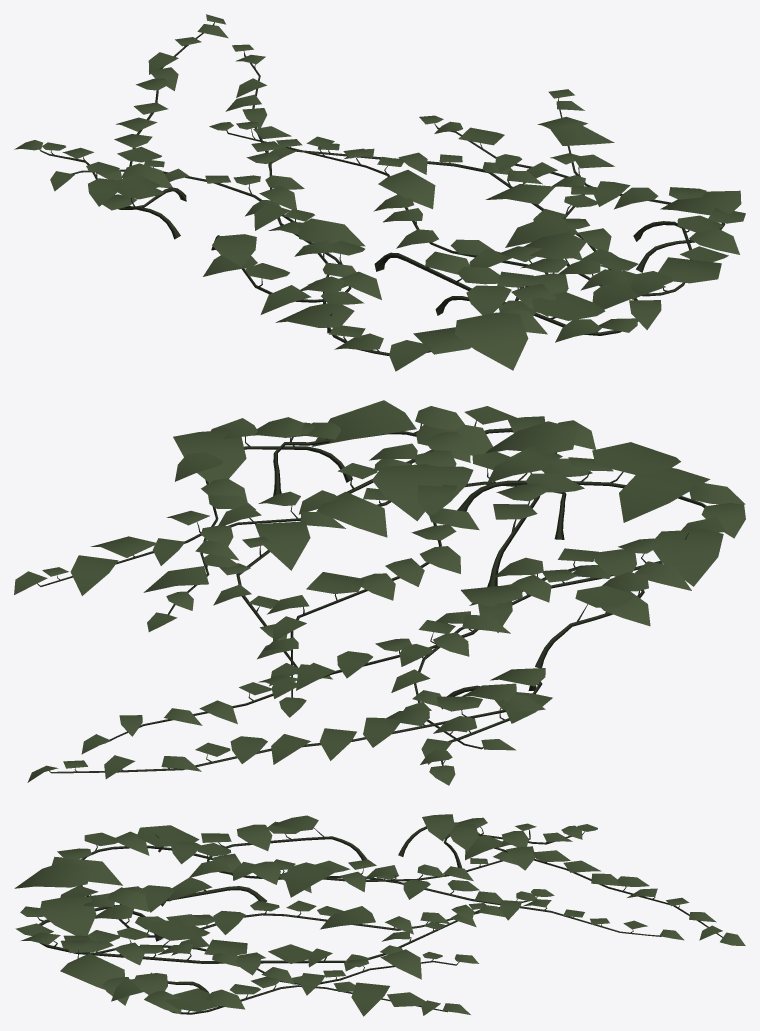
The model's file is scene_Ivy6.fbx.
The picture shows the model from 3 angles, top to bottom: view 1: azimuth 30°, elevation 25°; view 2: azimuth 150°, elevation 25°; view 3: azimuth 270°, elevation 25°; orthographic projection. The views are drawn at different scales.
Parts seen in each view (by area): view 1: Ivy6; view 2: Ivy6; view 3: Ivy6.
Boxes of the visible parts, x1,y1,x2,y2 form: Ivy6: (14,14,745,371); Ivy6: (14,400,745,785); Ivy6: (14,814,745,1016).
Bounding box in the file's own units: 3.71 × 0.2915 × 5.7.
